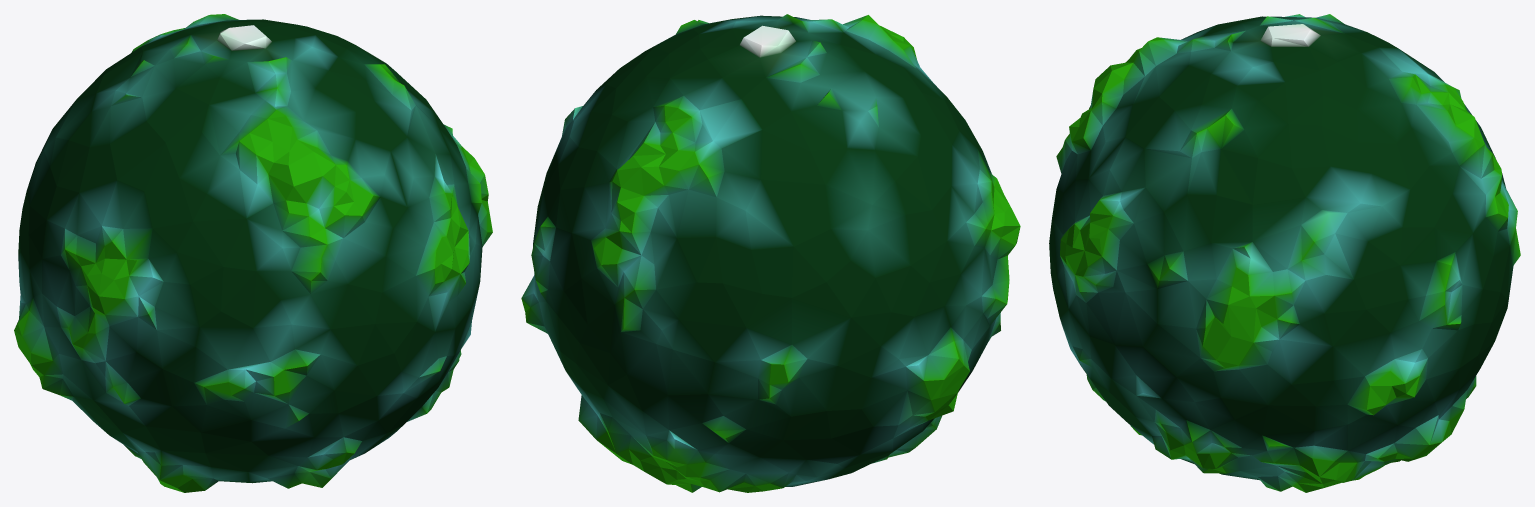
The model's file is planet_66.fbx.
3 views of the same model, side by side, from view 1: azimuth 30°, elevation 25°; view 2: azimuth 150°, elevation 25°; view 3: azimuth 270°, elevation 25° (orthographic).
Parts seen in each view (by area): view 1: file1; view 2: file1; view 3: file1.
Part boxes in pixels (<box>): file1: <box>14,14,492,492</box>; file1: <box>521,14,1020,492</box>; file1: <box>1049,14,1520,492</box>.
Bounding box in the file's own units: 2.12 × 2.04 × 2.03.
